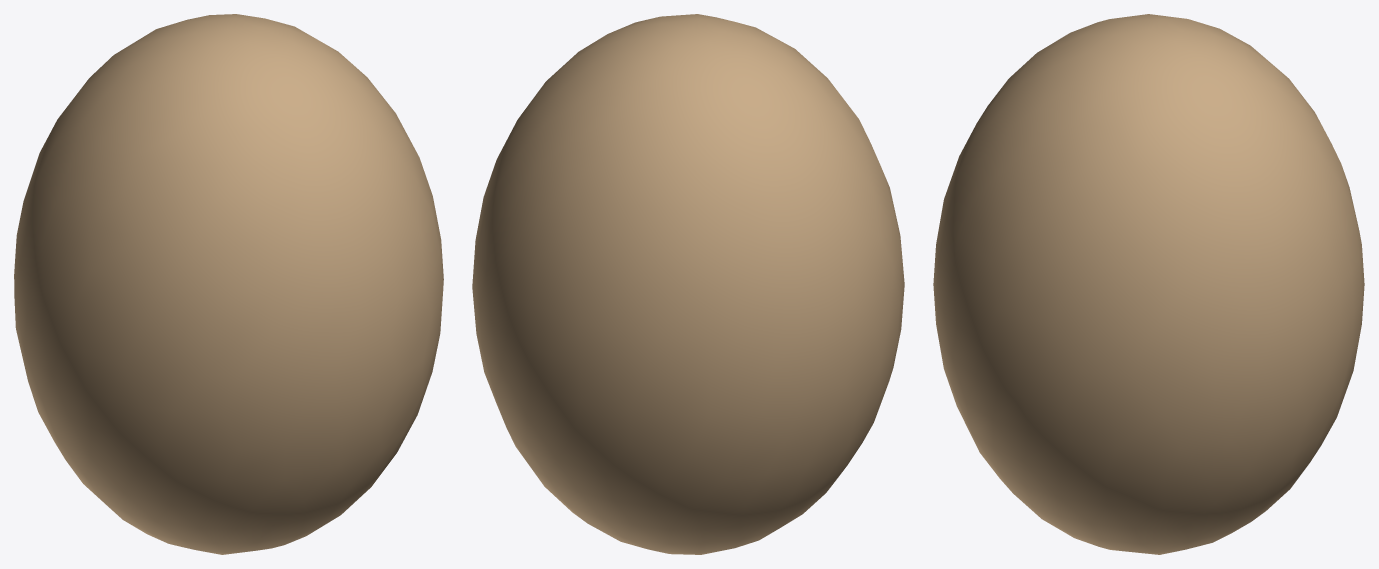
The model's file is trung.glb.
3 renders of one model, left to right at view 1: azimuth 30°, elevation 25°; view 2: azimuth 150°, elevation 25°; view 3: azimuth 270°, elevation 25°, orthographic.
Parts seen in each view (by area): view 1: trung; view 2: trung; view 3: trung.
Boxes of the visible parts, <box> form: trung: <box>14,14,443,554</box>; trung: <box>472,14,904,554</box>; trung: <box>933,14,1364,554</box>.
Bounding box in the file's own units: 0.043 × 0.056 × 0.043.
